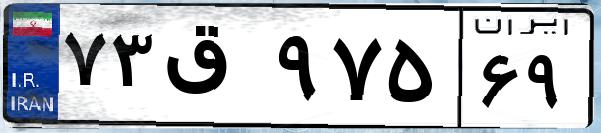3: (110, 28, 158, 98)
5: (385, 28, 445, 110)
6: (475, 38, 525, 113)
7: (330, 28, 385, 110), (57, 26, 110, 100)
9: (270, 28, 330, 110), (525, 38, 570, 115)
ق: (158, 20, 270, 120)
